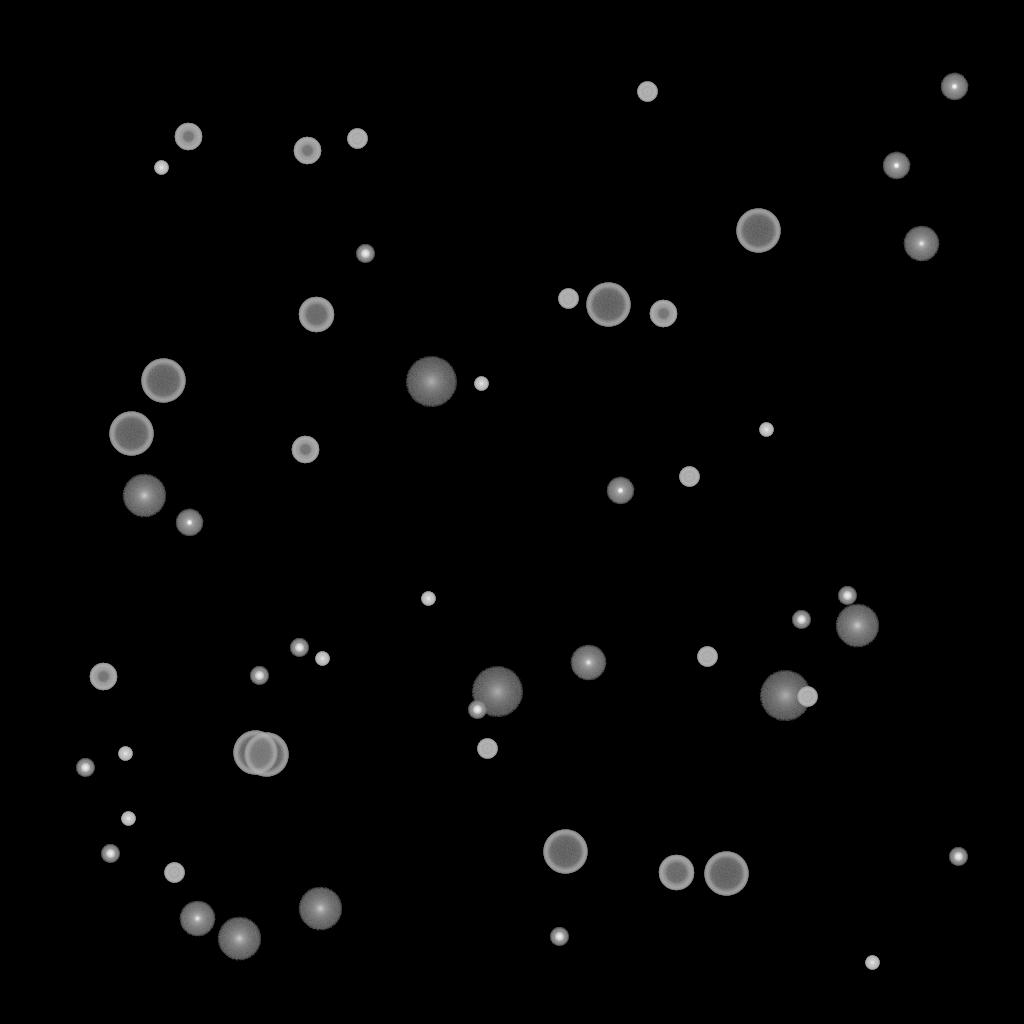depth:-10: (175, 509, 203, 537), (882, 152, 910, 180), (606, 477, 634, 505), (940, 73, 968, 101)
depth:-20: (949, 848, 967, 866), (838, 587, 856, 605), (290, 639, 308, 657), (550, 928, 568, 946), (792, 611, 810, 629), (101, 845, 119, 863), (356, 245, 374, 263), (76, 759, 94, 777), (468, 701, 486, 719), (250, 667, 268, 685)
depth:-30: (154, 161, 168, 175), (121, 812, 135, 826), (474, 377, 488, 391), (118, 747, 132, 761), (865, 956, 879, 970), (759, 423, 773, 437), (315, 652, 329, 666), (421, 592, 435, 606)
depth:-40: (797, 687, 817, 707), (477, 739, 497, 759), (558, 289, 578, 309), (637, 82, 657, 102), (347, 129, 367, 149), (679, 467, 699, 487), (697, 647, 717, 667), (164, 863, 184, 883)
depth:-50: (89, 663, 117, 691), (293, 137, 321, 165), (174, 123, 202, 151), (291, 436, 319, 464), (649, 300, 677, 328)
depth:-60: (658, 855, 694, 891), (298, 297, 334, 333)
depth:-70: (543, 830, 587, 874), (736, 209, 780, 253), (586, 283, 630, 327), (704, 852, 748, 896), (233, 731, 277, 775), (244, 733, 288, 777), (141, 359, 185, 403), (109, 412, 153, 456)
depth:0: (179, 901, 215, 937), (903, 226, 939, 262), (570, 645, 606, 681)
depth:10: (217, 917, 261, 961), (835, 604, 879, 648), (122, 474, 166, 518), (298, 887, 342, 931)
depth:20: (759, 671, 811, 721), (471, 667, 523, 717), (405, 357, 457, 407)
